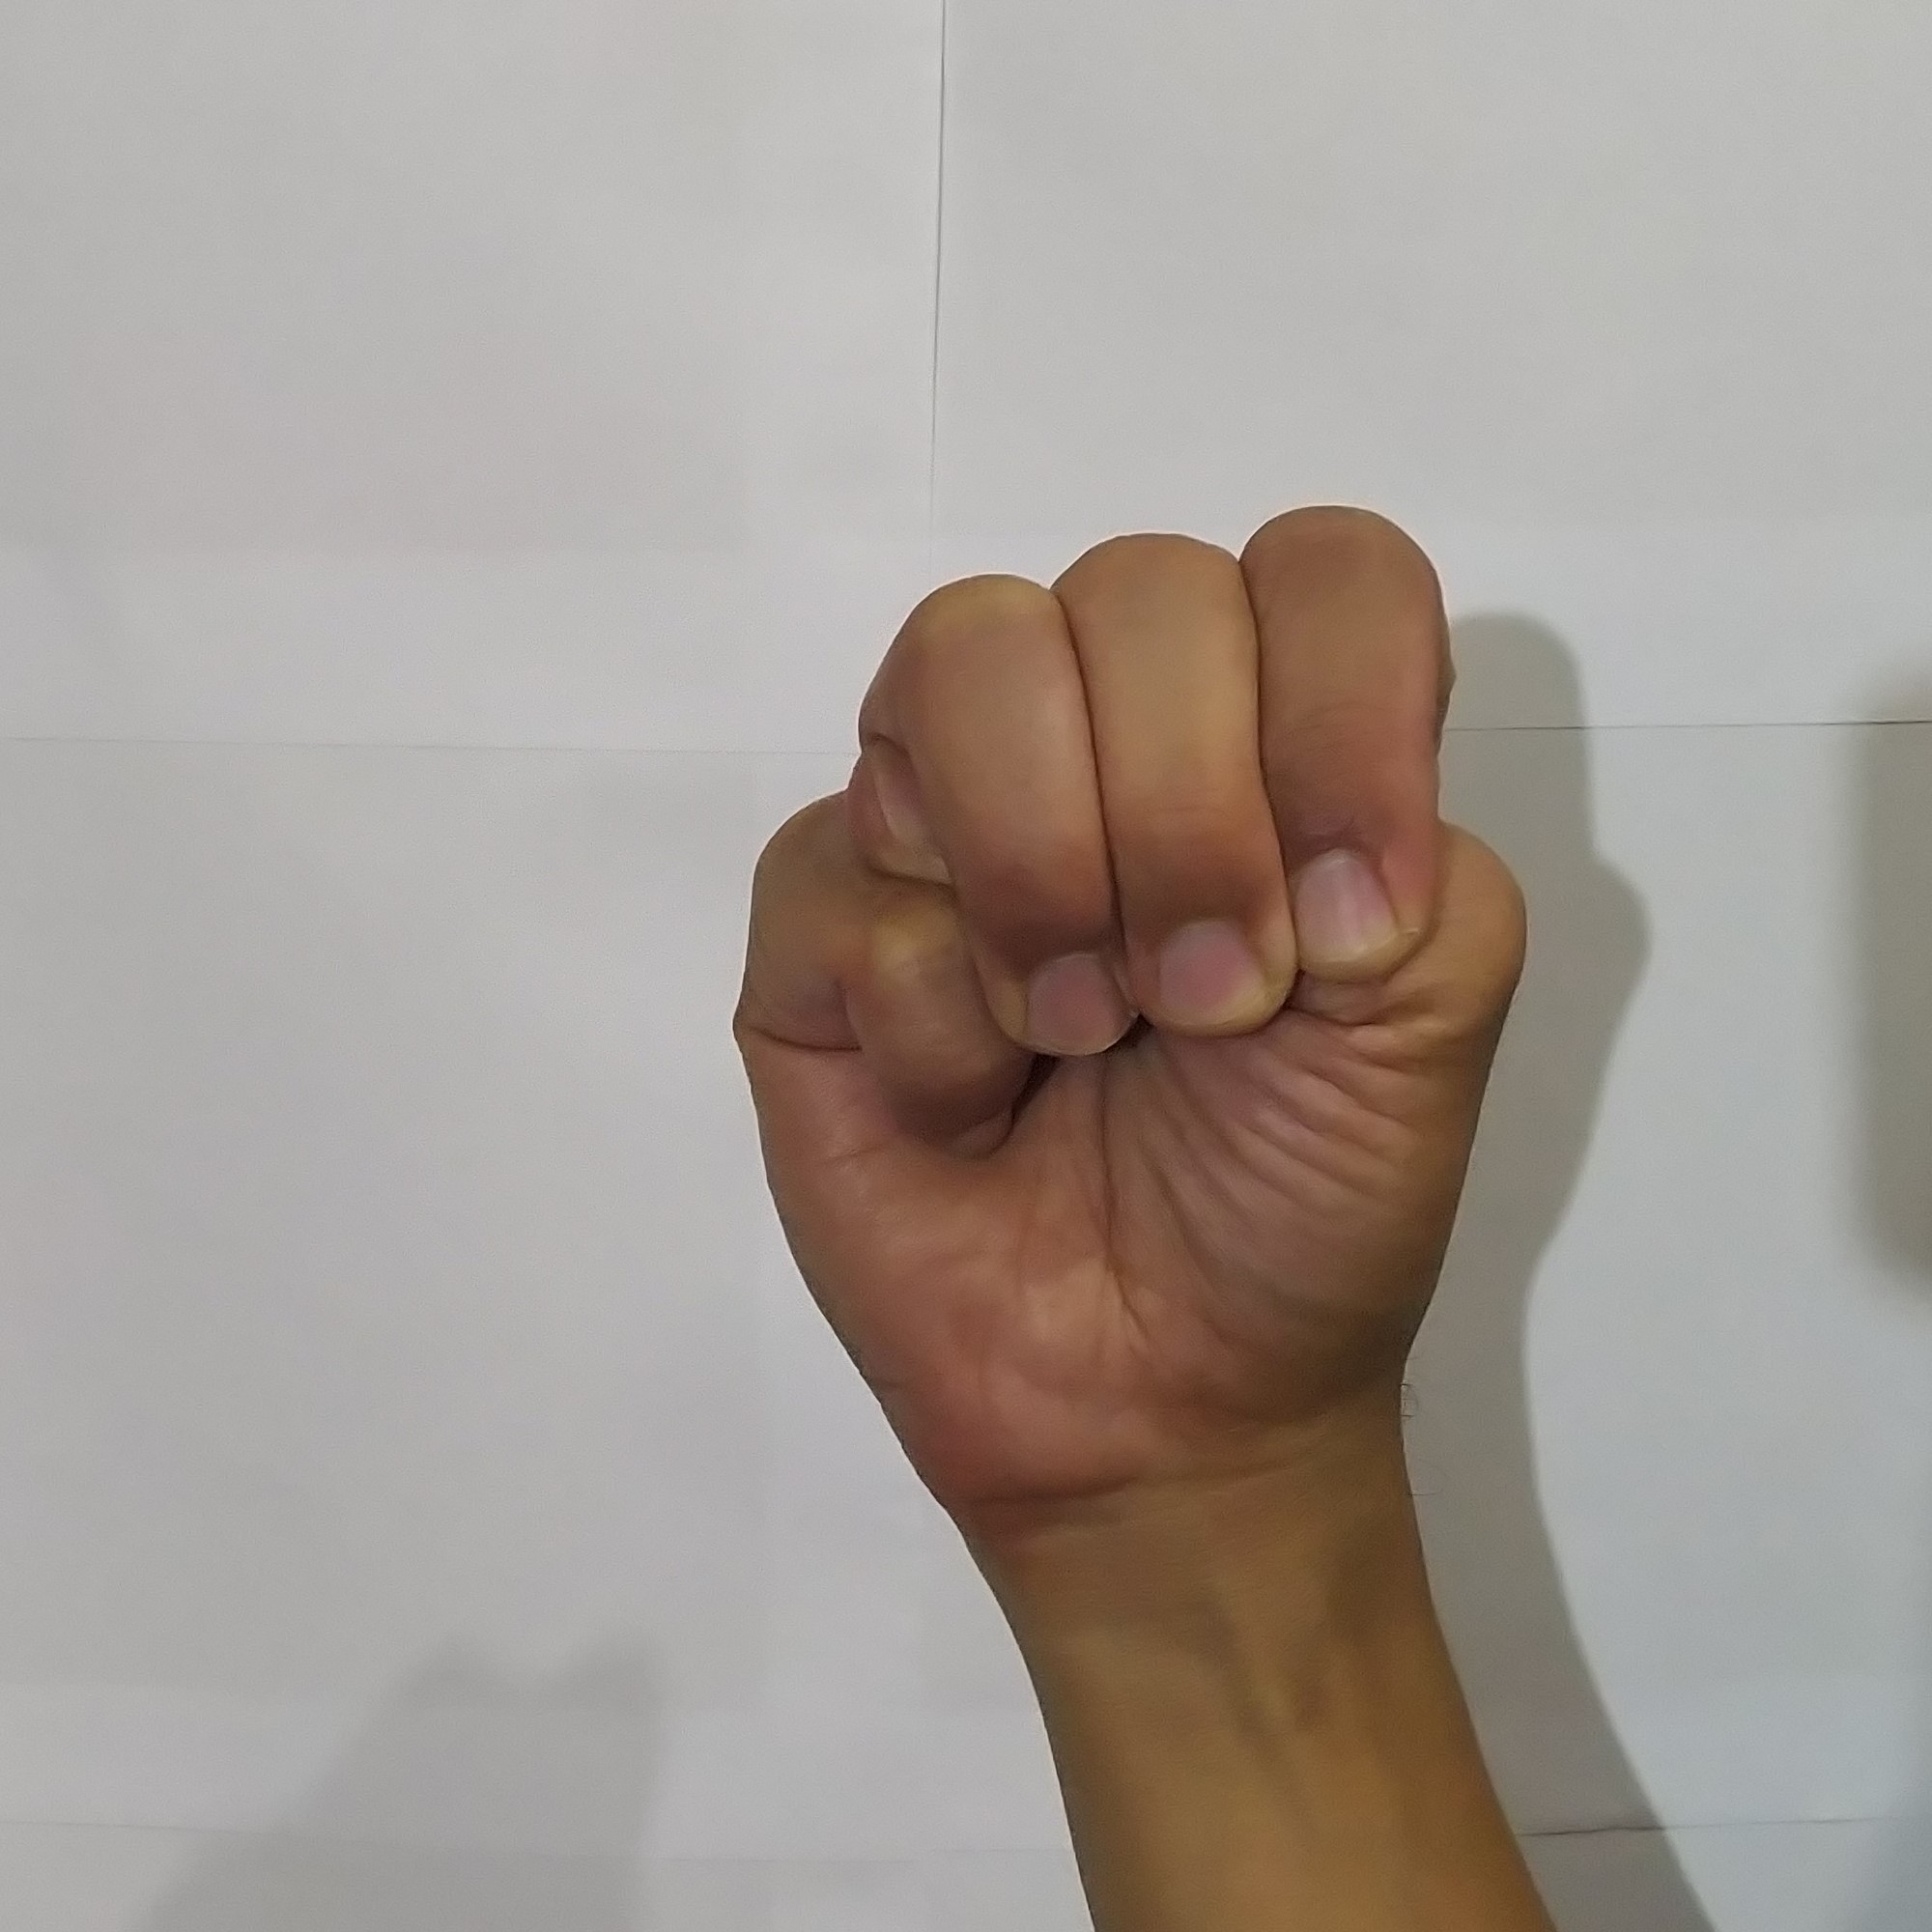M: (699, 483, 1553, 1479)
